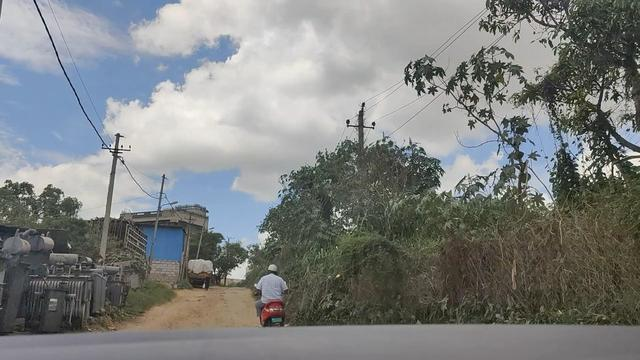HMV: (186, 251, 219, 291)
LMV: (254, 249, 296, 331)
UnsurfacedRoad: (156, 290, 249, 331)
